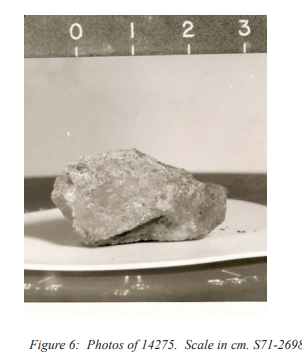Breccia: (49, 142, 247, 257)
